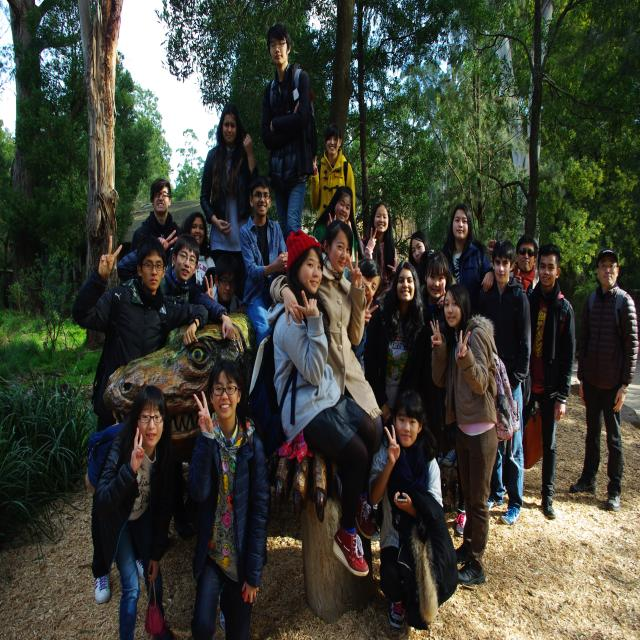body: (69, 232, 211, 608), (265, 228, 379, 576), (427, 282, 523, 589), (270, 220, 384, 452), (84, 381, 182, 640), (186, 356, 270, 640), (366, 387, 460, 632), (569, 248, 639, 514), (476, 239, 532, 527), (522, 243, 575, 518), (115, 228, 236, 344), (260, 24, 317, 245), (199, 102, 260, 304), (363, 261, 429, 425), (239, 176, 289, 352), (416, 250, 456, 431), (441, 201, 495, 315), (161, 211, 219, 305), (308, 120, 356, 225), (344, 258, 383, 376), (129, 177, 183, 257), (432, 441, 474, 542), (313, 185, 365, 265), (360, 201, 398, 301), (203, 254, 246, 316), (405, 223, 442, 293), (509, 233, 539, 292)
